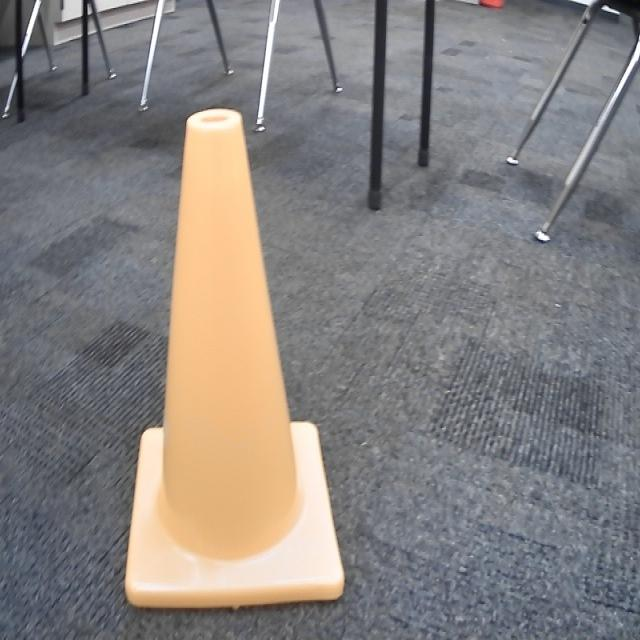cone: (123, 106, 348, 618)
